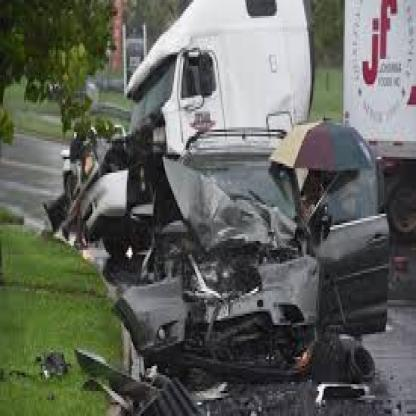accident: (43, 0, 416, 364)
